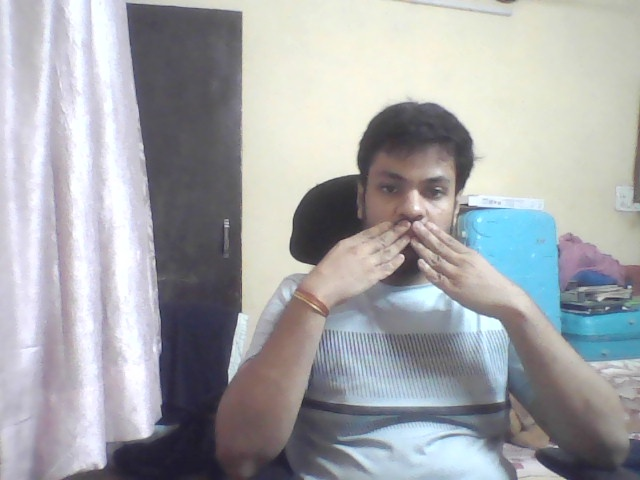Thanks: (305, 212, 526, 324)
